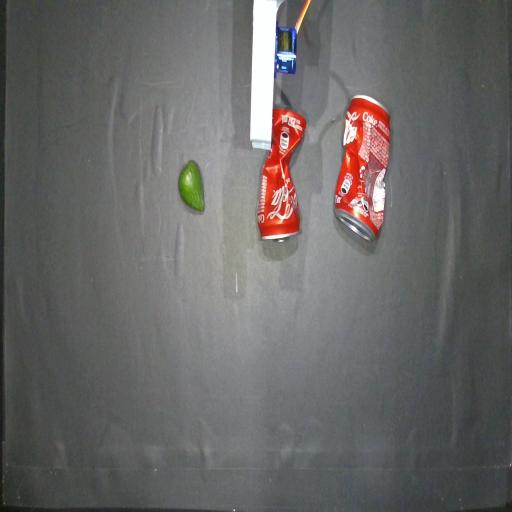higo: (178, 160, 204, 211)
lata_defectuoso: (334, 96, 390, 240), (257, 107, 307, 240)
